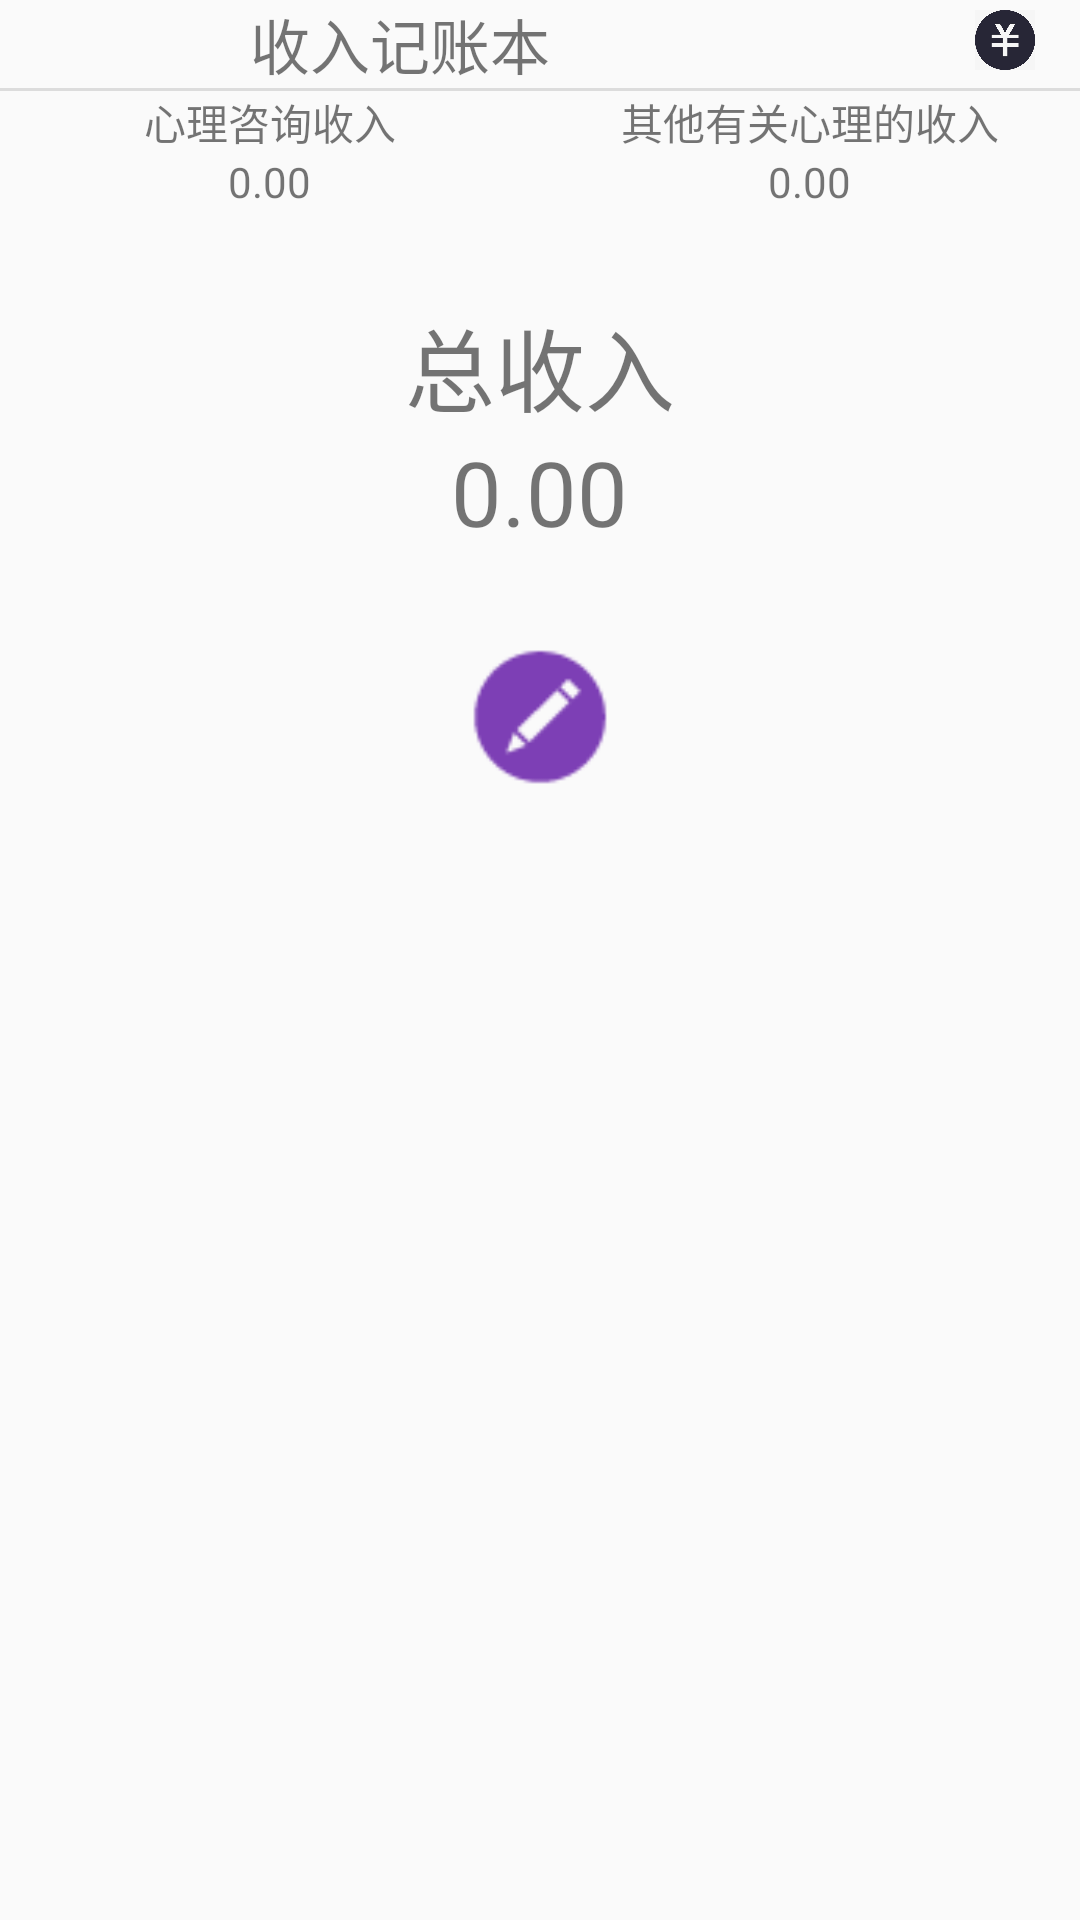

Locate icon controls on the screen. Image size 1080×1920, boxes as [left=x1, top=y1, right=x2, bottom=y2].
edit: [left=473, top=650, right=607, bottom=784]
